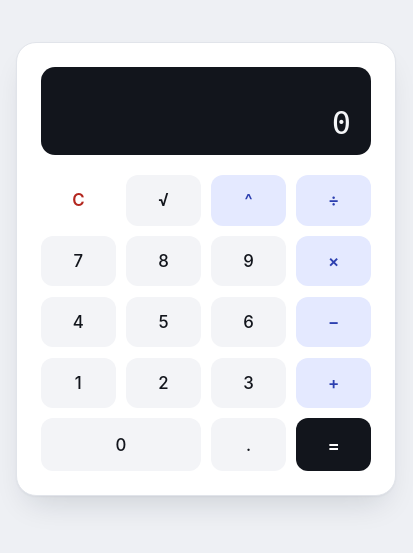
Calculator › shows an error banner when the API rejects the request
Click the button "5": (163, 322) [126,297,201,347]
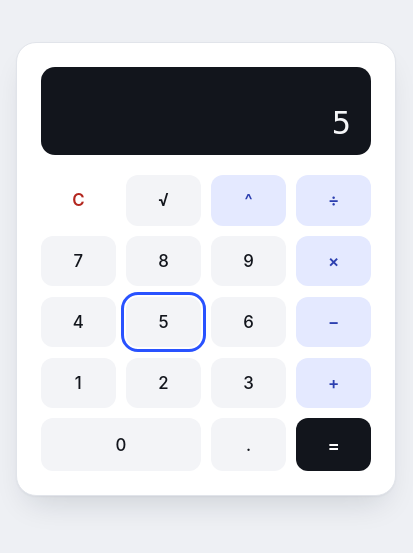
Click the button "÷": (334, 200) [296,175,371,226]
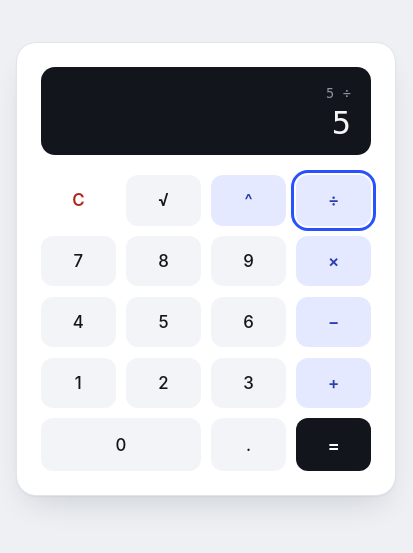
Click the button "0": (121, 444) [41,418,201,471]
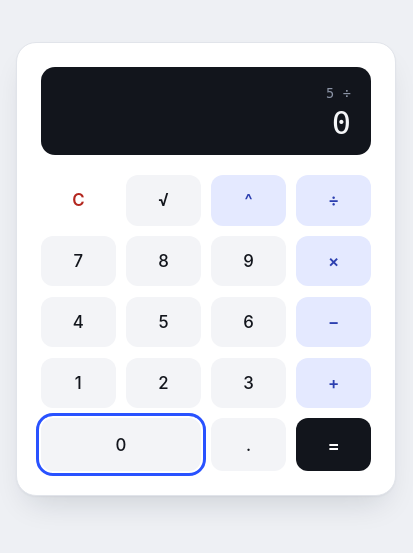
Click the button named "equals": (334, 444) [296,418,371,471]
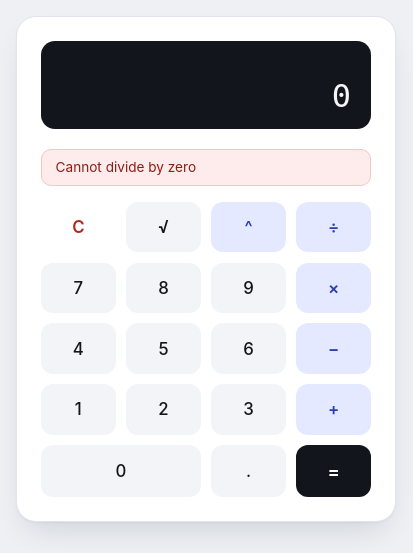
Now the message reads "Cannot divide by zero", box [56,159,196,175]
